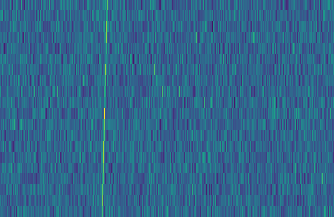signal: (96, 0, 110, 217)
